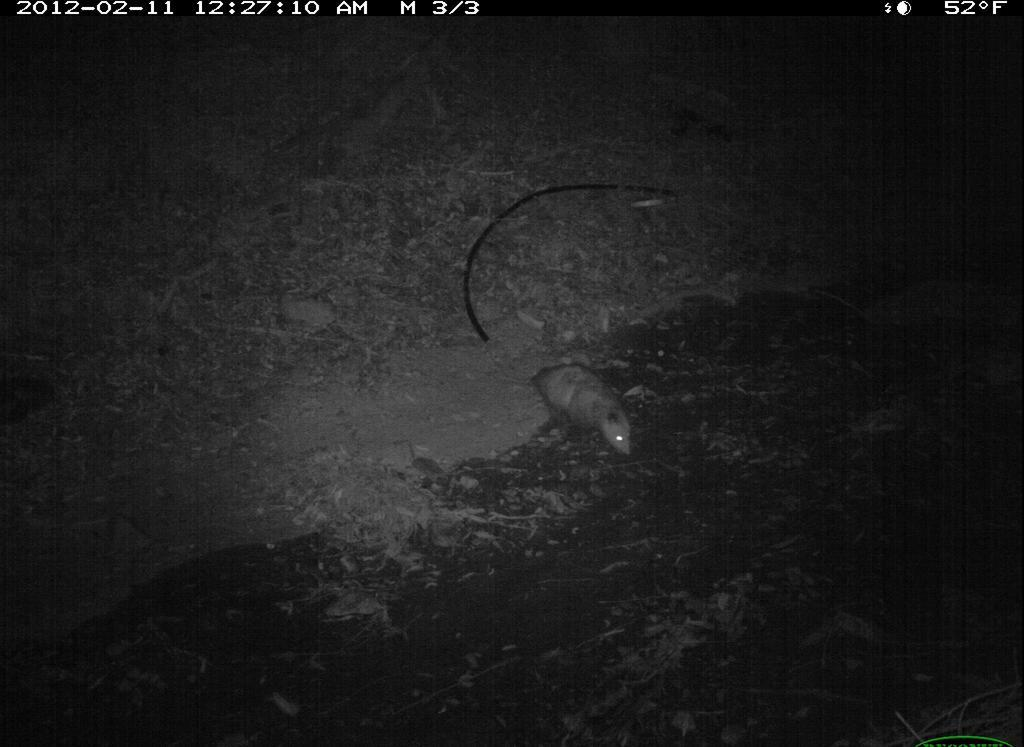opossum: (487, 353, 649, 463)
